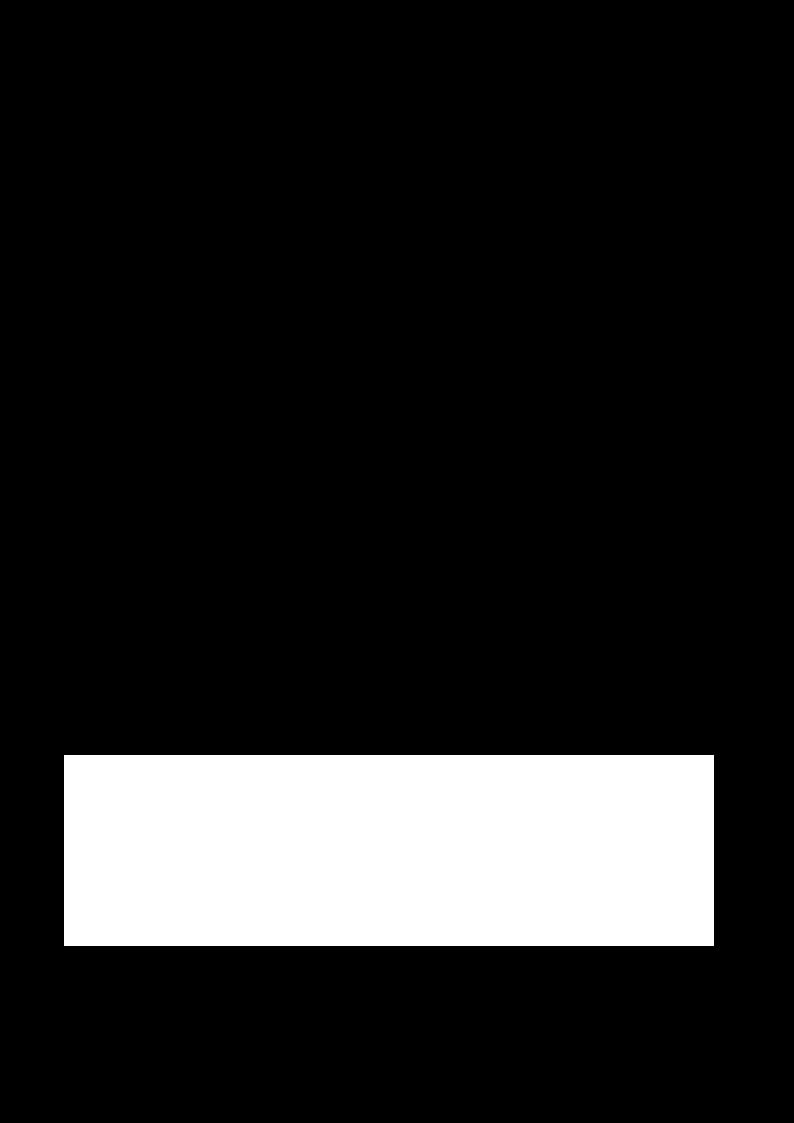table: (64, 755, 713, 945)
